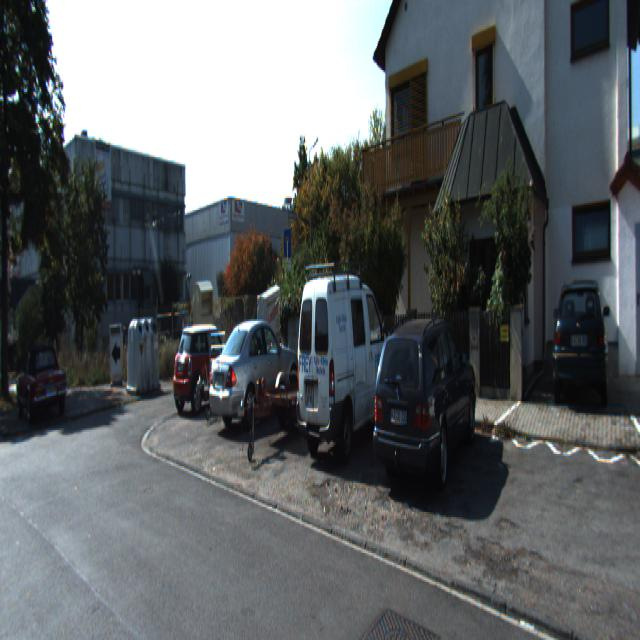Car: (294, 260, 401, 470), (372, 310, 481, 504), (214, 356, 354, 474), (205, 312, 303, 436), (552, 268, 610, 406), (169, 322, 238, 416), (185, 327, 247, 424), (14, 338, 68, 420), (252, 282, 280, 360)
